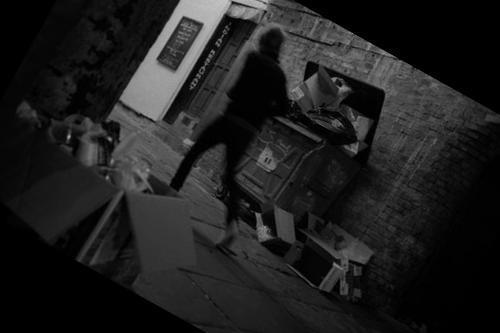Bote de Basura: (0, 86, 201, 293)
